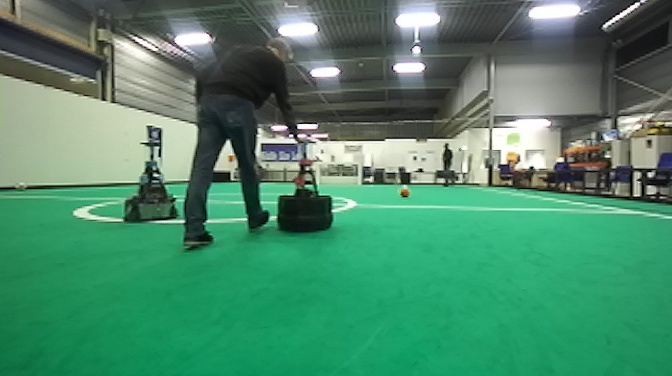ball: (395, 183, 412, 199), (12, 179, 30, 194)
goal: (312, 161, 365, 190)
goalpost: (355, 160, 363, 190)
human: (179, 33, 319, 253)
robot: (270, 138, 339, 237), (119, 120, 183, 226)
